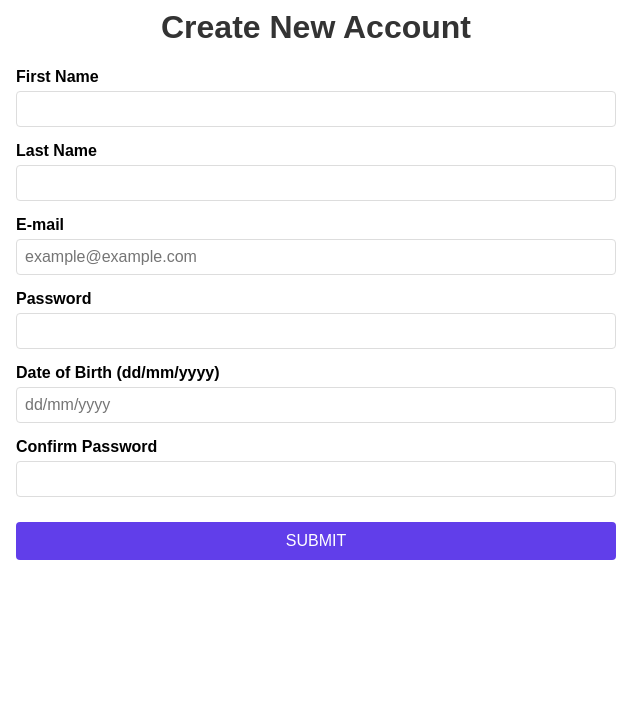
Test: Form validation tests › shows error for invalid date format
The width and height of the screenshot is (633, 703).
Type "01-01-2000" into the field labelled "Date of Birth (dd/mm/yyyy)".
click(316, 405); type("01-01-2000")  # box [16,387,616,423]
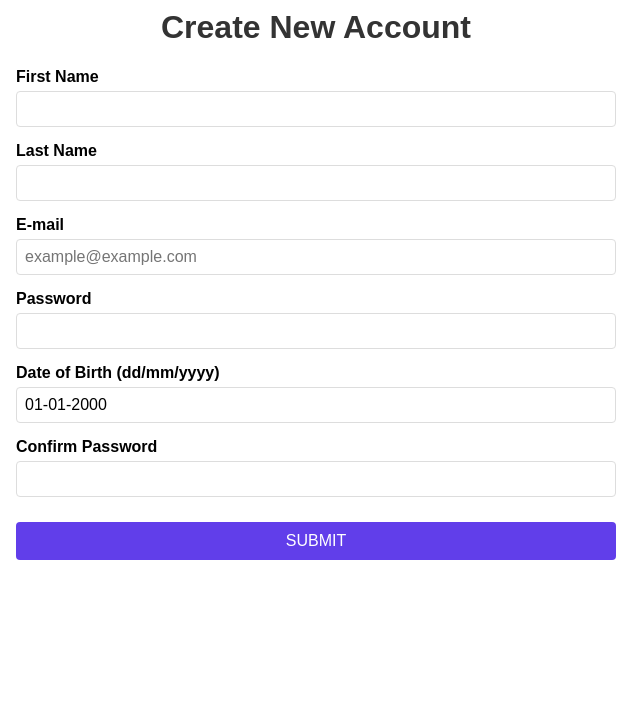
Click the button "SUBMIT".
click(316, 541)  # box [16,522,616,560]
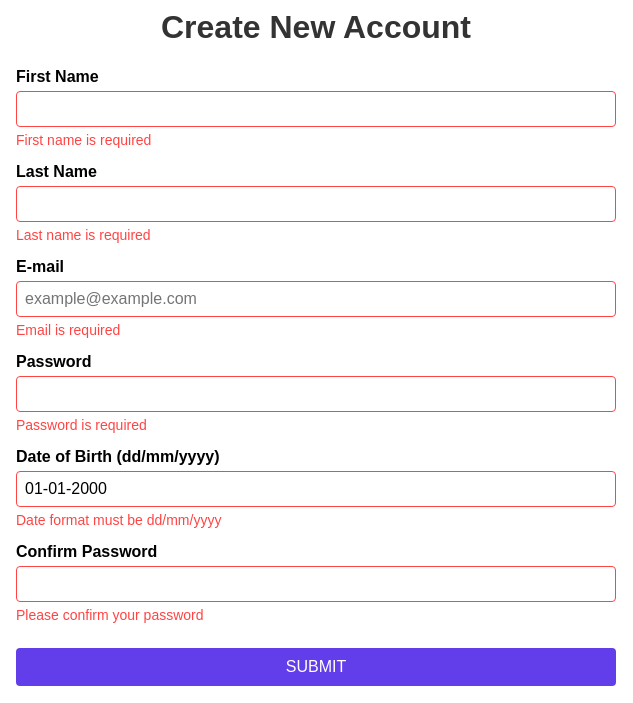
Now the text "Date format must be dd/mm/yyyy" is shown, box [16,512,221,528]
